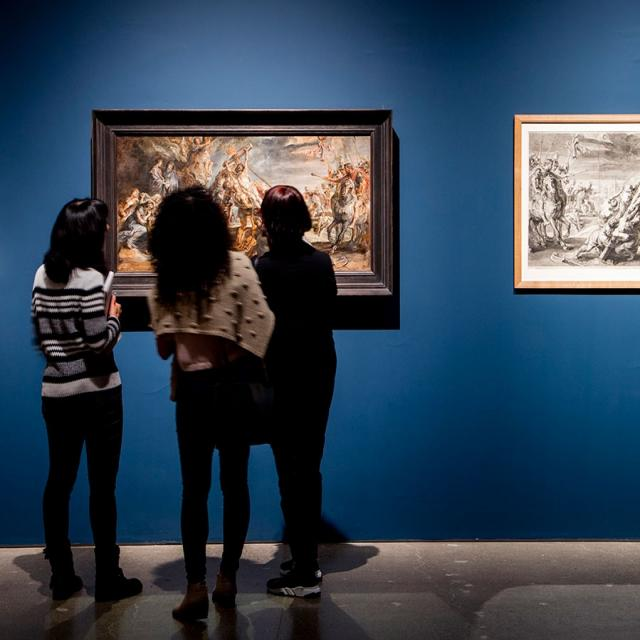Tablo: (115, 133, 373, 272), (520, 121, 639, 282)
